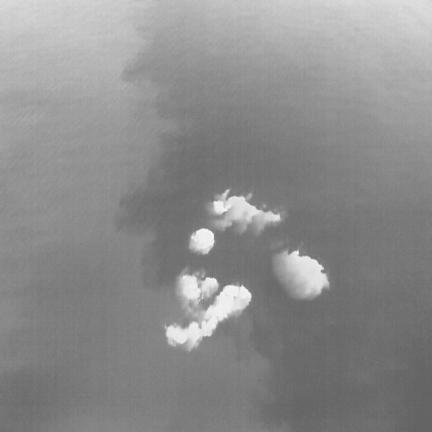flukeprints: (166, 285, 251, 350), (166, 285, 250, 349), (273, 251, 329, 299), (178, 275, 202, 305), (189, 229, 214, 254), (198, 278, 218, 299), (210, 200, 227, 215)
